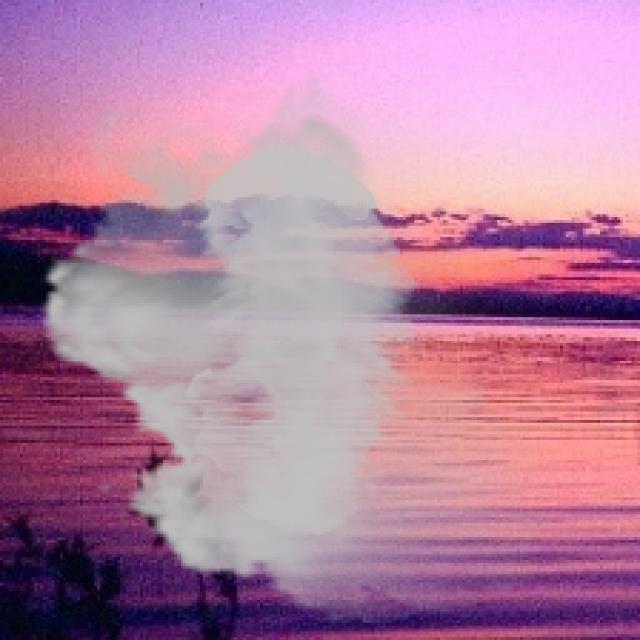Smoke: (19, 71, 574, 623)
